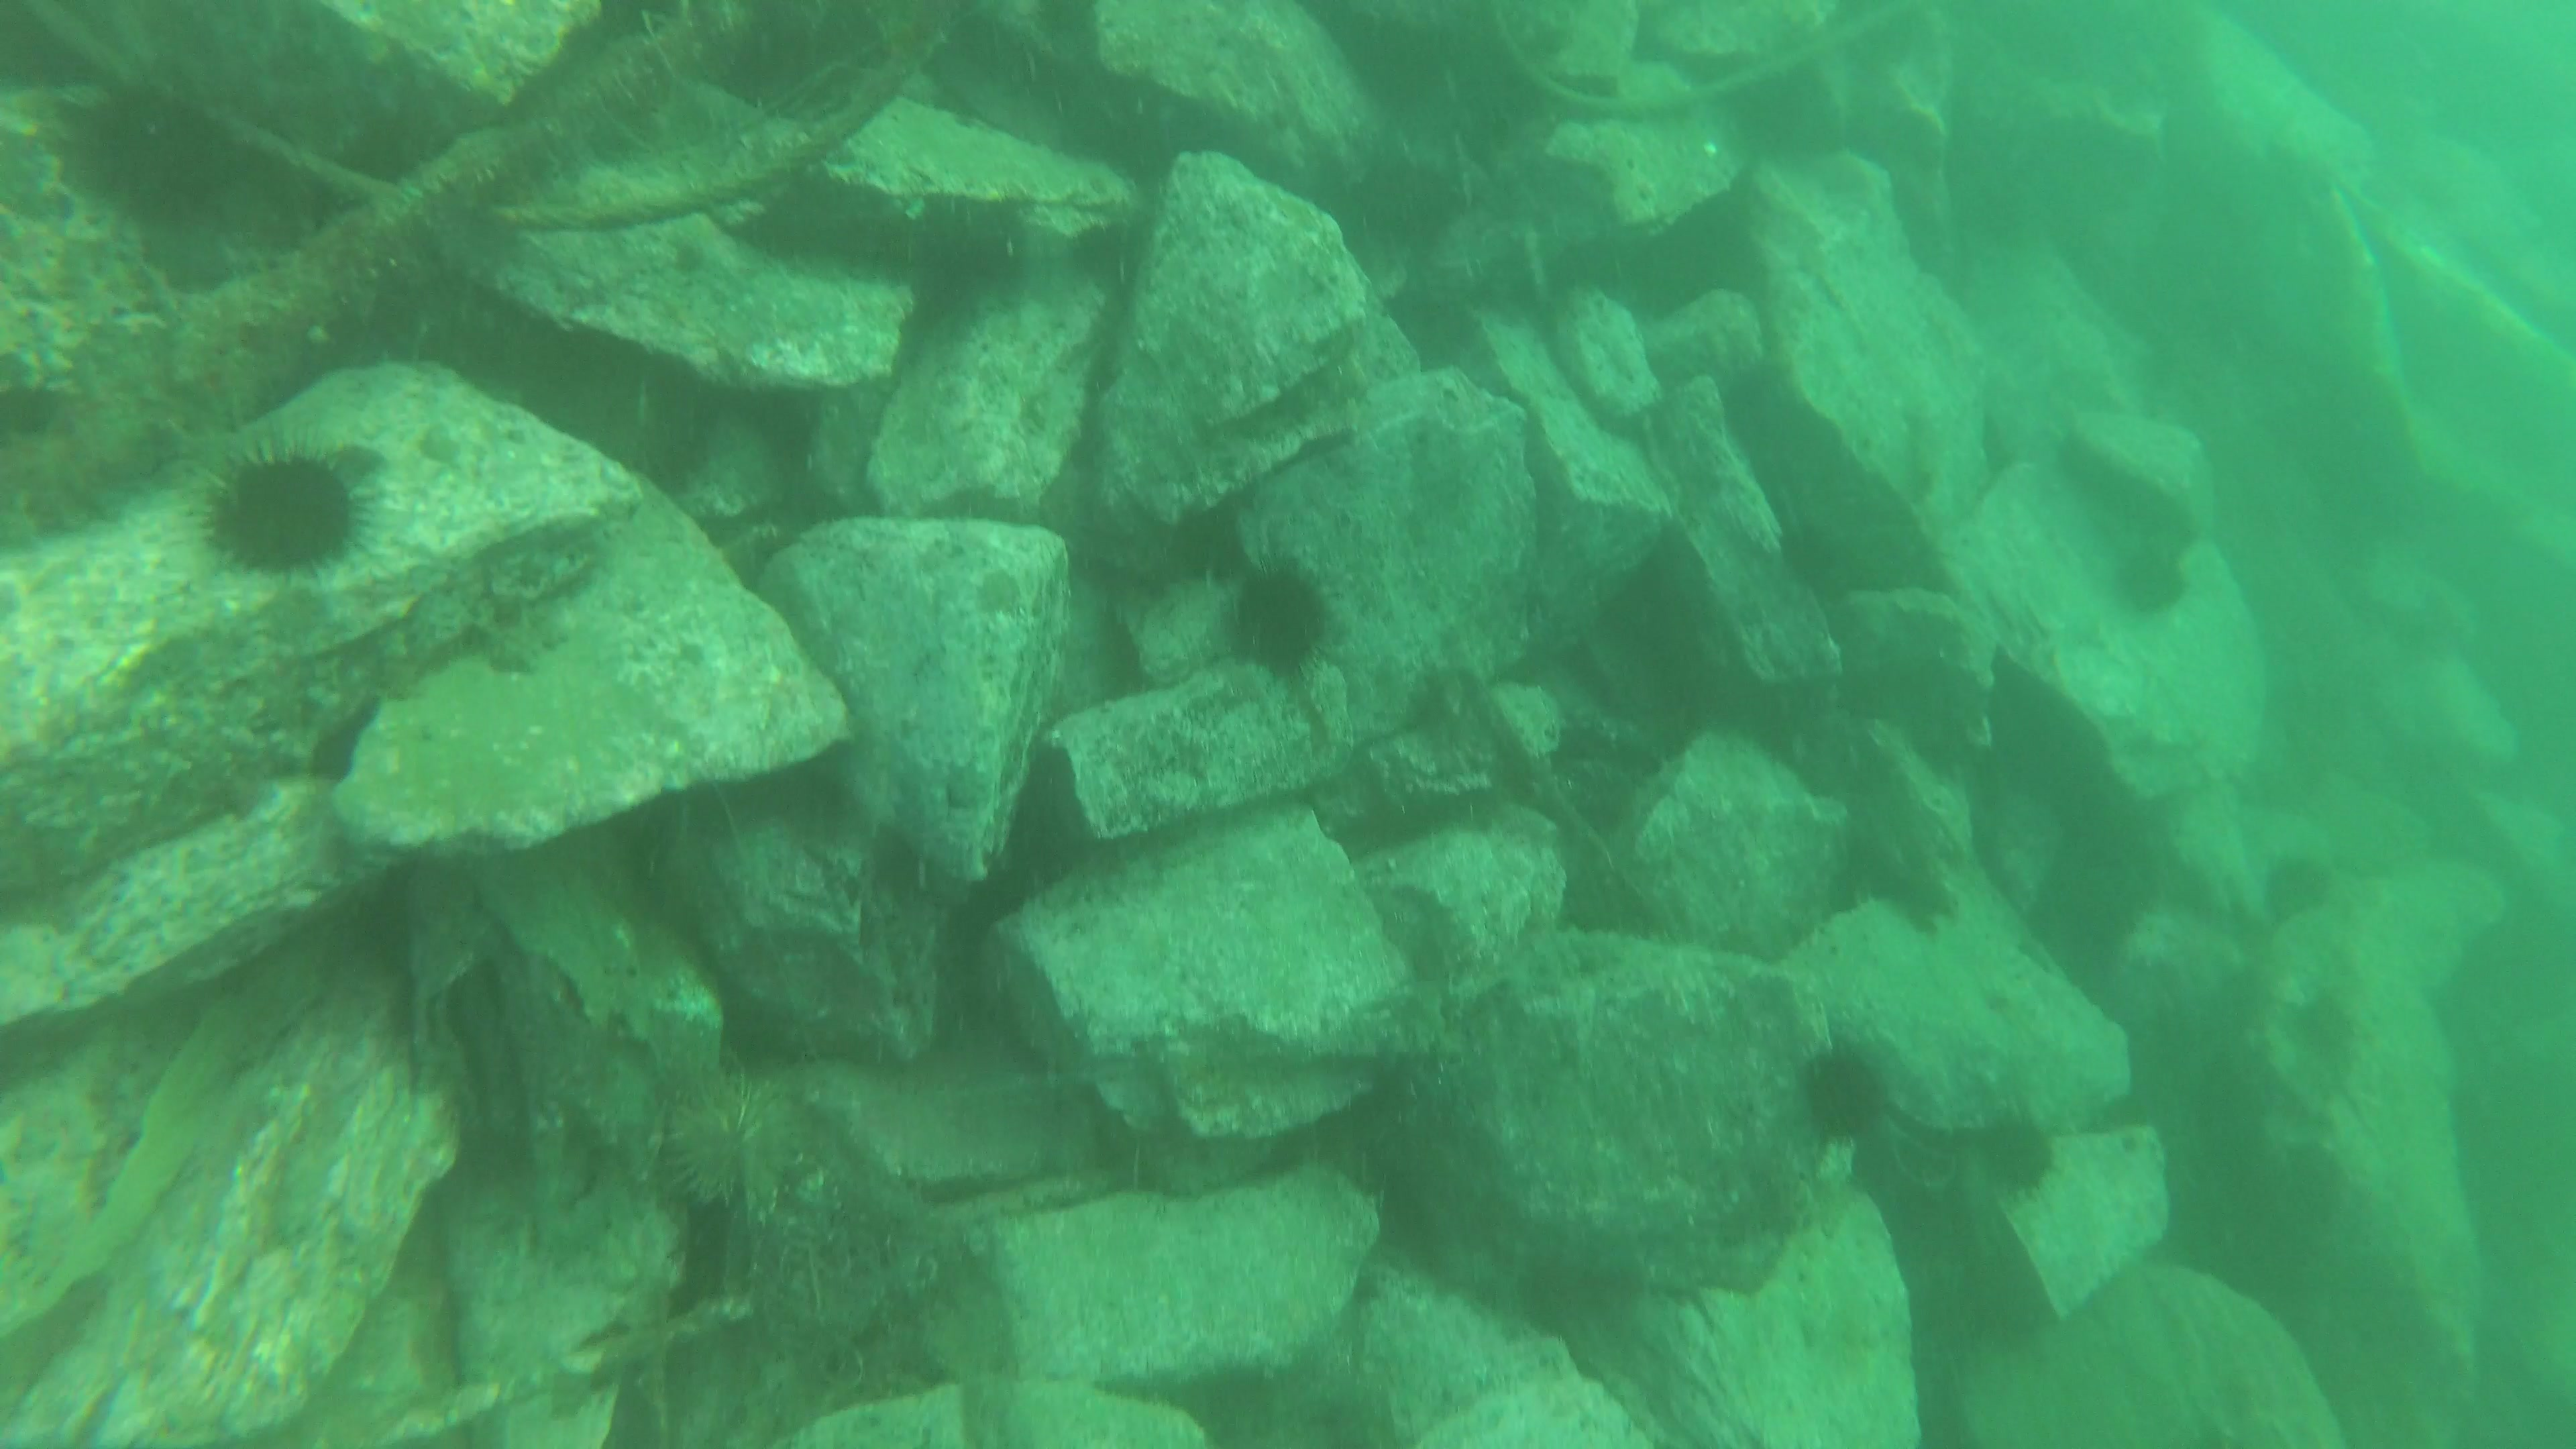echinus: (205, 449, 361, 584), (667, 1079, 805, 1214), (1230, 566, 1330, 676), (1799, 1042, 1888, 1139), (1973, 1108, 2061, 1201), (1776, 517, 1849, 603), (2123, 550, 2190, 623)
